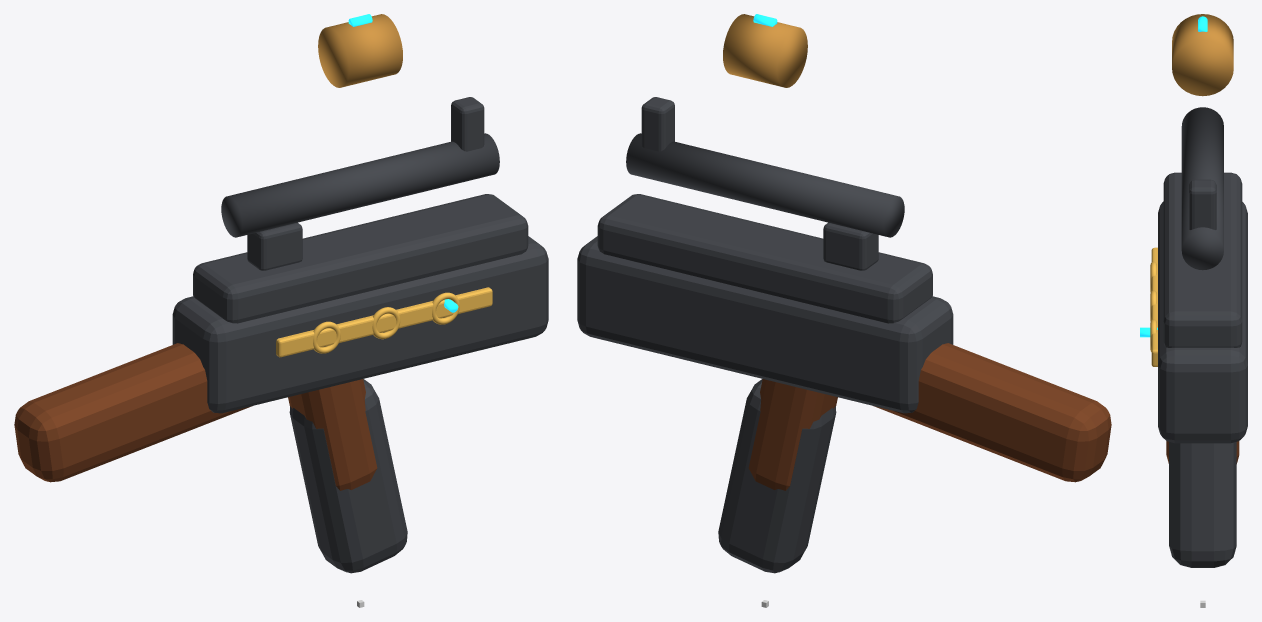
The model's file is BHC_WP_AK47.glb.
The picture shows the model from 3 angles, left to right: view 1: azimuth 30°, elevation 25°; view 2: azimuth 150°, elevation 25°; view 3: azimuth 270°, elevation 25°; orthographic projection.
Visible parts, largest first — view 1: SM_BHC_WP_AK47_FP_Receiver, SM_BHC_WP_AK47_FP_Upper, SM_BHC_WP_AK47_FP_Stock, SM_BHC_WP_AK47_FP_Barrel, SM_BHC_WP_AK47_FP_Magazine, SM_BHC_WP_AK47_FP_Grip, SM_BHC_WP_AK47_FP_Muzzle, SM_BHC_WP_AK47_BrassInlay, SM_BHC_WP_AK47_RearSight, SM_BHC_WP_AK47_FrontSight; view 2: SM_BHC_WP_AK47_FP_Receiver, SM_BHC_WP_AK47_FP_Upper, SM_BHC_WP_AK47_FP_Stock, SM_BHC_WP_AK47_FP_Barrel, SM_BHC_WP_AK47_FP_Magazine, SM_BHC_WP_AK47_FP_Grip, SM_BHC_WP_AK47_FP_Muzzle, SM_BHC_WP_AK47_RearSight, SM_BHC_WP_AK47_FrontSight; view 3: SM_BHC_WP_AK47_FP_Receiver, SM_BHC_WP_AK47_FP_Upper, SM_BHC_WP_AK47_FP_Magazine, SM_BHC_WP_AK47_FP_Barrel, SM_BHC_WP_AK47_FP_Muzzle, SM_BHC_WP_AK47_FrontSight, SM_BHC_WP_AK47_BrassInlay.
Part boxes in pixels (x1,y1,x2,y2): SM_BHC_WP_AK47_FP_Receiver: (172,236,548,413); SM_BHC_WP_AK47_FP_Upper: (193,194,528,323); SM_BHC_WP_AK47_FP_Stock: (14,343,252,482); SM_BHC_WP_AK47_FP_Barrel: (221,133,499,237); SM_BHC_WP_AK47_FP_Magazine: (289,379,407,573); SM_BHC_WP_AK47_FP_Grip: (288,379,377,490); SM_BHC_WP_AK47_FP_Muzzle: (318,14,402,87); SM_BHC_WP_AK47_BrassInlay: (276,287,492,357); SM_BHC_WP_AK47_RearSight: (247,222,302,270); SM_BHC_WP_AK47_FrontSight: (451,97,484,151); SM_BHC_WP_AK47_FP_Receiver: (577,236,953,413); SM_BHC_WP_AK47_FP_Upper: (597,194,932,323); SM_BHC_WP_AK47_FP_Stock: (873,343,1111,482); SM_BHC_WP_AK47_FP_Barrel: (626,133,904,237); SM_BHC_WP_AK47_FP_Magazine: (718,379,836,573); SM_BHC_WP_AK47_FP_Grip: (748,379,837,490); SM_BHC_WP_AK47_FP_Muzzle: (723,14,807,87); SM_BHC_WP_AK47_RearSight: (823,222,878,270); SM_BHC_WP_AK47_FrontSight: (641,97,674,151); SM_BHC_WP_AK47_FP_Receiver: (1158,201,1247,443); SM_BHC_WP_AK47_FP_Upper: (1163,172,1242,347); SM_BHC_WP_AK47_FP_Magazine: (1169,442,1236,567); SM_BHC_WP_AK47_FP_Barrel: (1181,107,1223,270); SM_BHC_WP_AK47_FP_Muzzle: (1172,14,1233,96); SM_BHC_WP_AK47_FrontSight: (1189,179,1216,229); SM_BHC_WP_AK47_BrassInlay: (1151,247,1157,366).
Size of the model in its own units: 2.14 by 2.37 by 0.3948.
